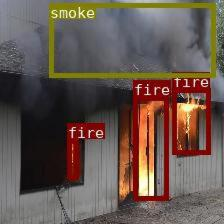fire: (132, 96, 168, 200), (172, 88, 210, 154), (66, 138, 78, 179)
smoke: (49, 2, 215, 77)
